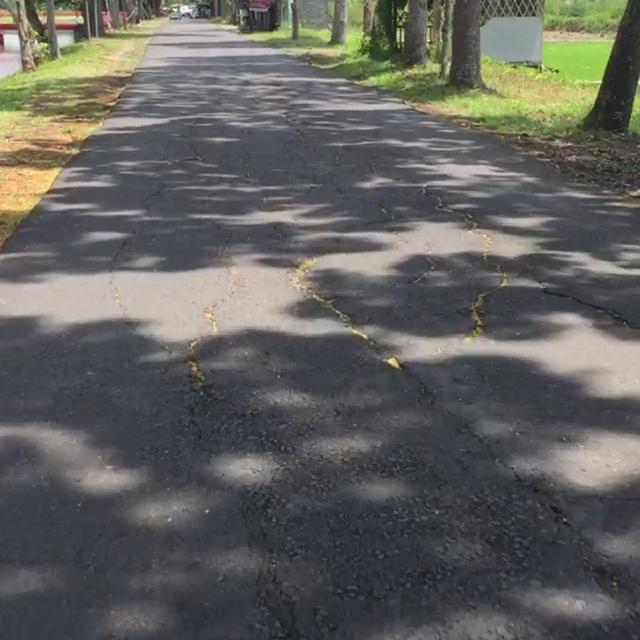retak_memanjang: (156, 234, 236, 430)
